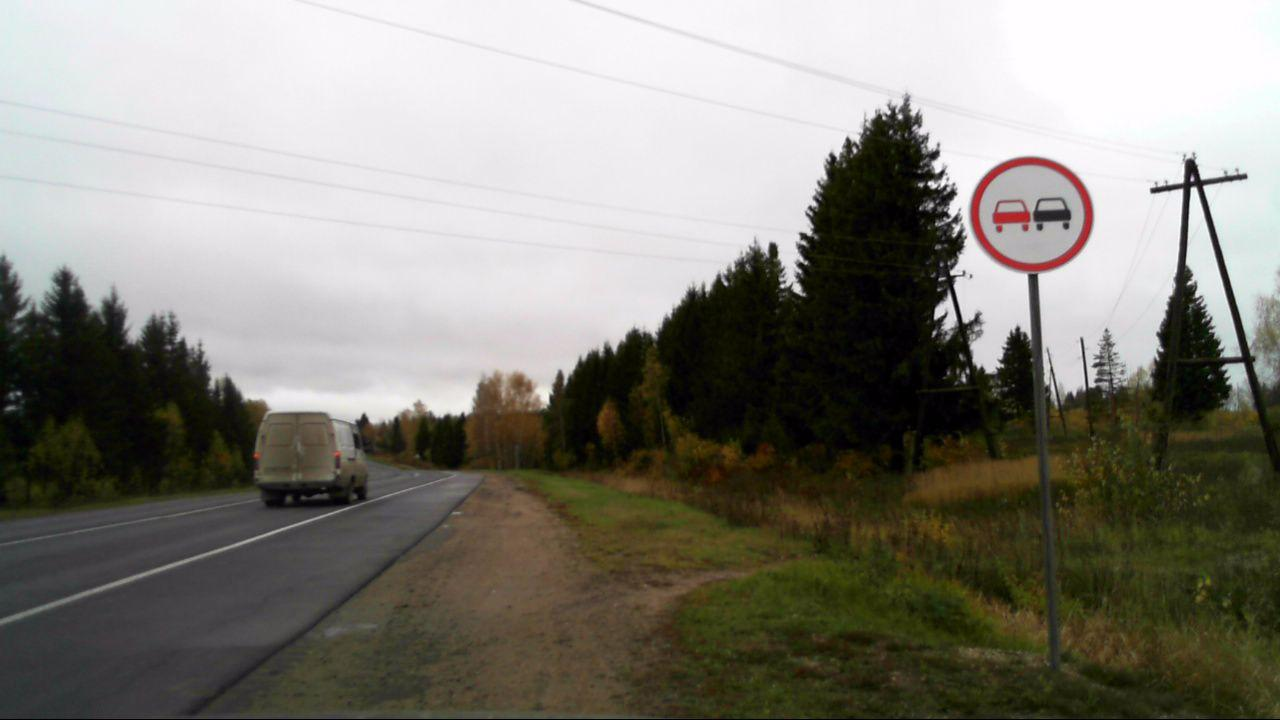3_20: (968, 156, 1094, 274)
